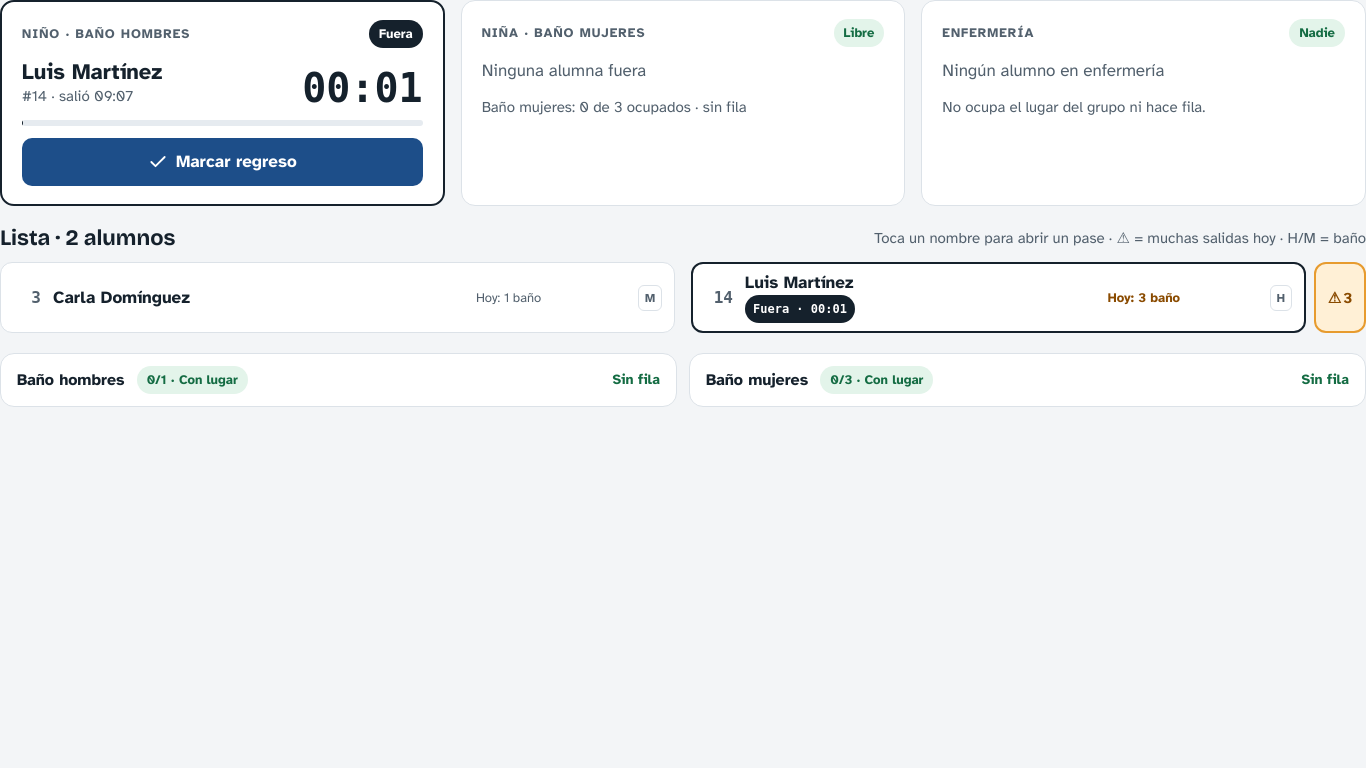
it: salidas del día › marca con ⚠ a quien llegó al límite y al tocarlo muestra horarios y clases
The image size is (1366, 768).
What coordinates should you click on to do the following:
click the button named "Luis Martínez salió 3 veces al baño hoy"
I would click on:
 (1340, 298)
Its box is left=1314, top=262, right=1365, bottom=333.
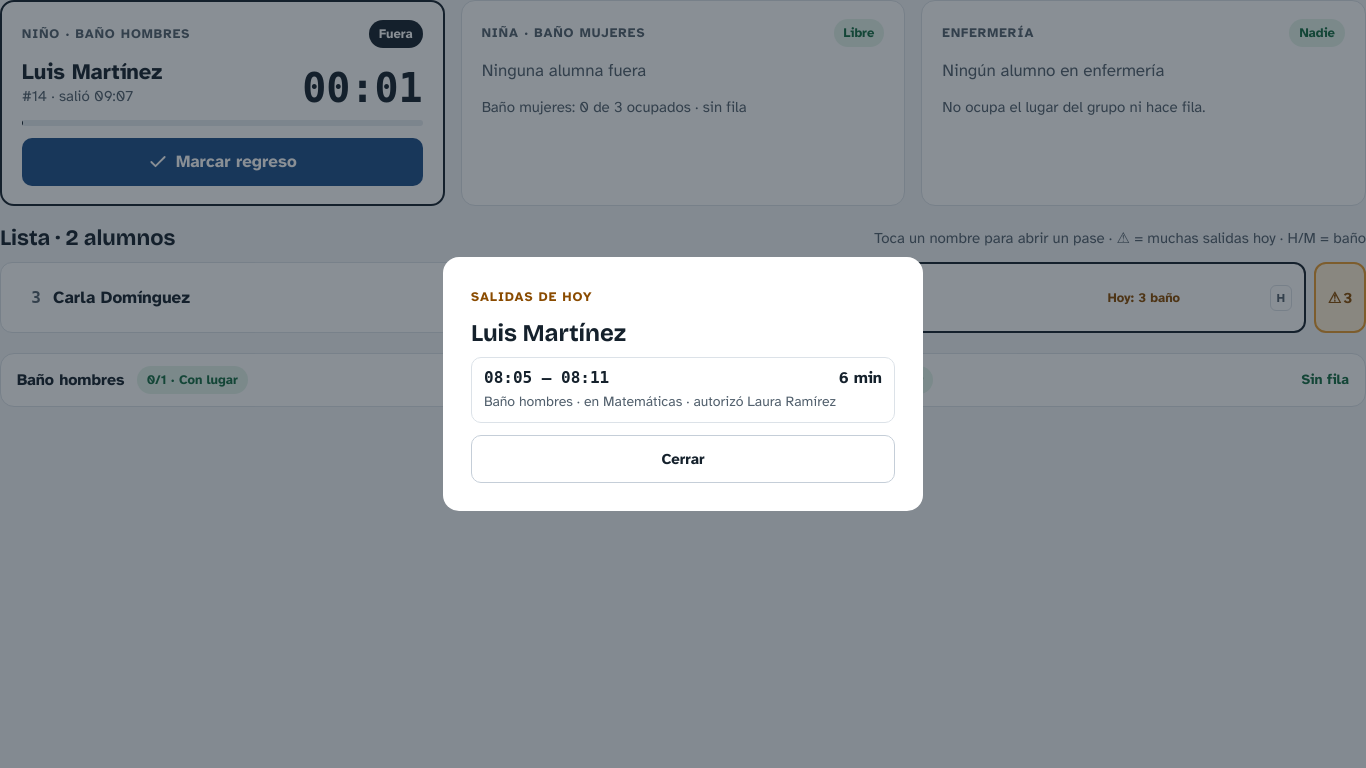
Expected: the dialog named "Salidas de hoy de Luis Martínez" is shown, left=443, top=257, right=923, bottom=511
Expected: the text "08:05 – 08:11" is shown, left=484, top=366, right=609, bottom=390
Expected: the text "Baño hombres · en Matemáticas · autorizó Laura Ramírez" is shown, left=484, top=390, right=882, bottom=414
